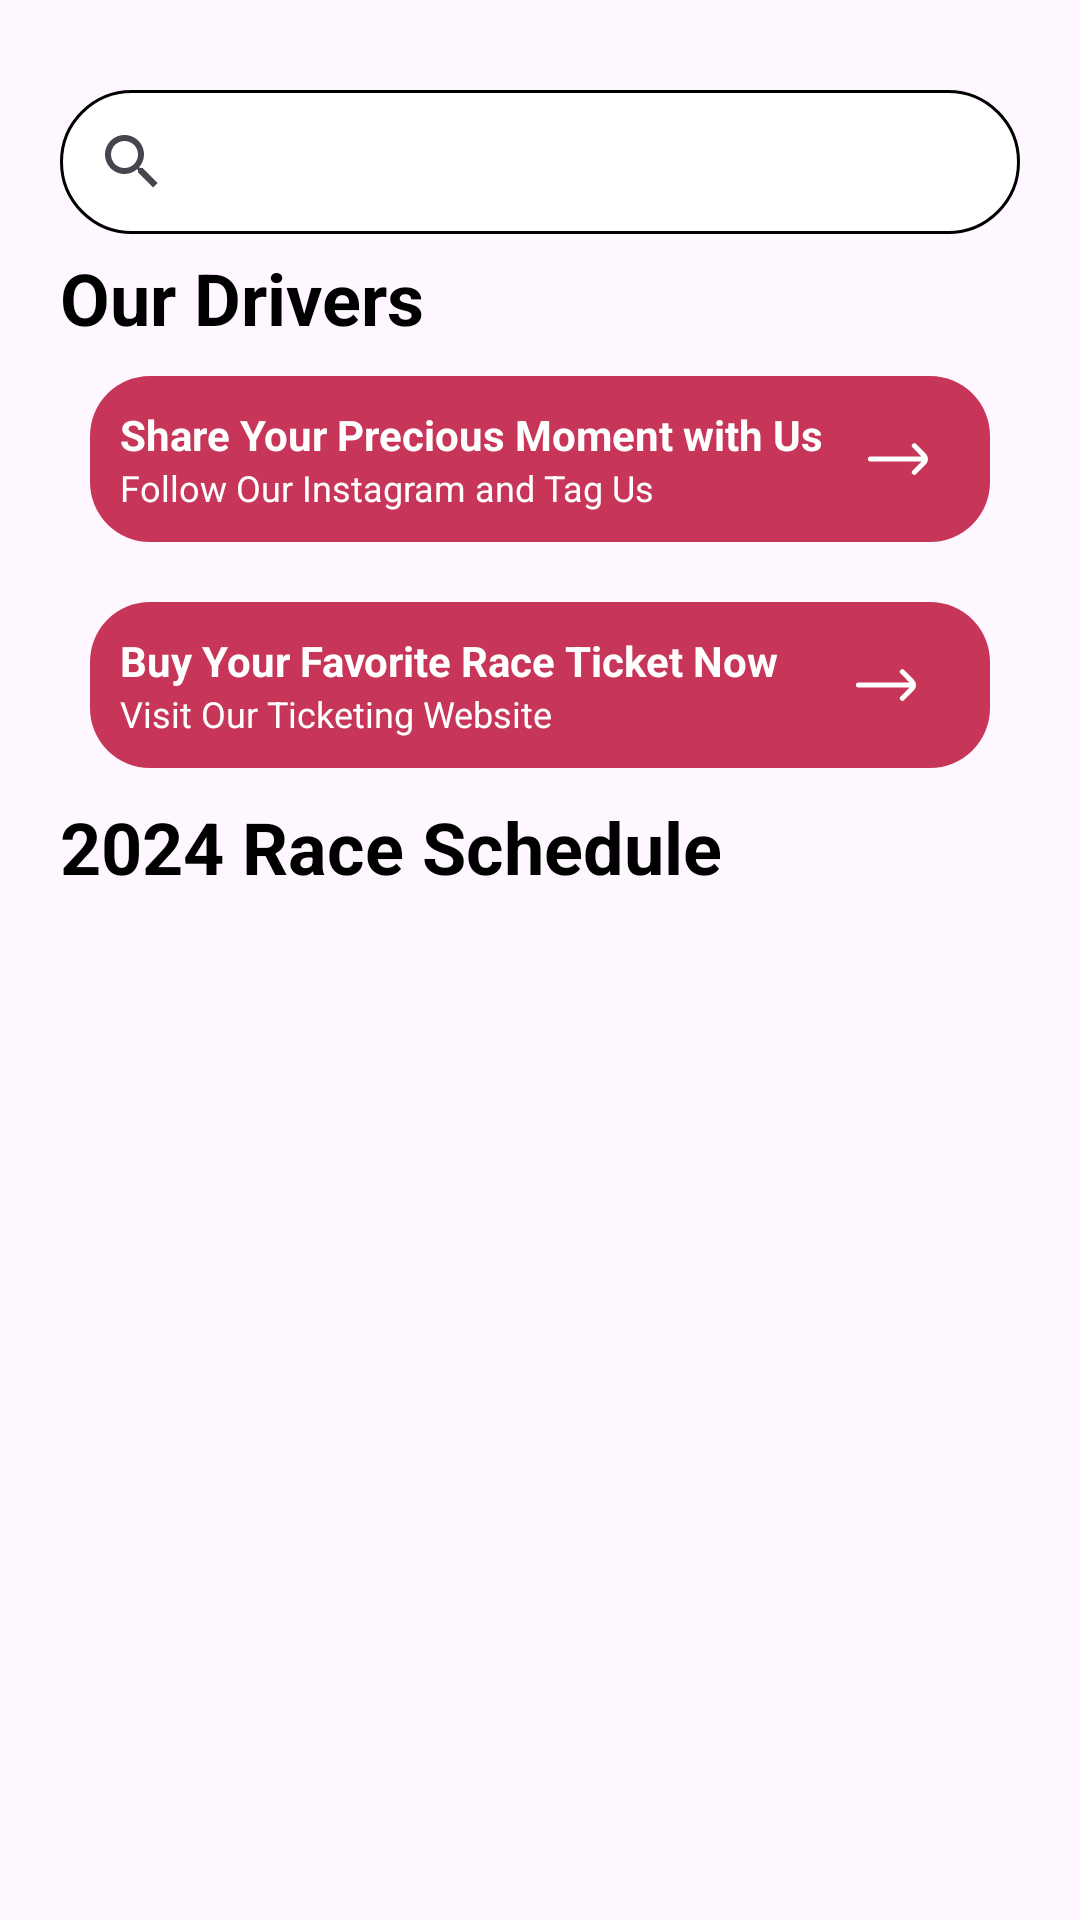

Screen size 1080*1920. Icon name, then its box in pixels as (x1=x1, y1=y1, x2=x2, y2=y2):
arrow right: (x1=868, y1=443, x2=928, y2=475), (x1=856, y1=669, x2=916, y2=701)
